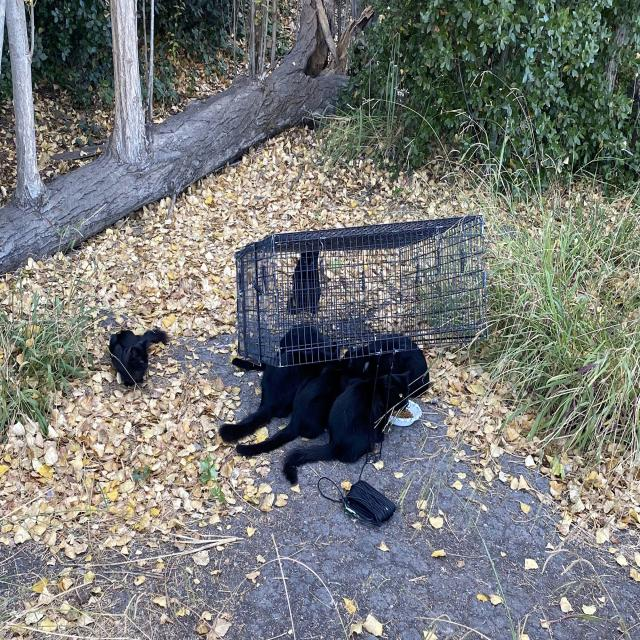cat: (220, 326, 339, 442), (284, 374, 409, 484), (238, 358, 370, 456), (342, 337, 430, 396), (109, 328, 169, 386), (288, 251, 321, 314)
